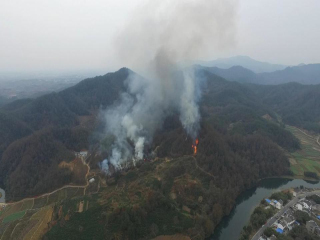smoke: (91, 1, 240, 175)
